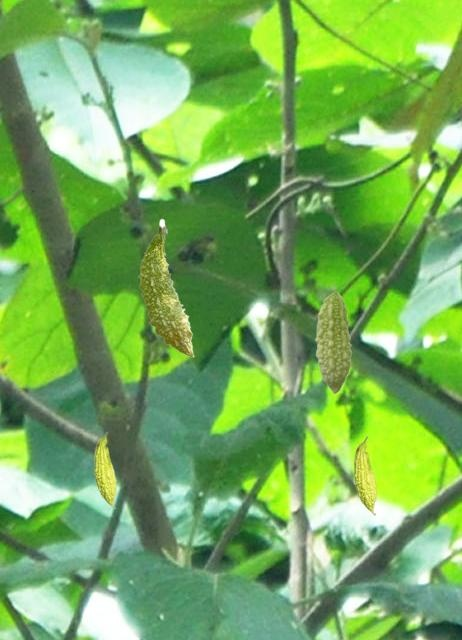ampalaya: (137, 218, 194, 357), (314, 290, 352, 394), (353, 435, 377, 516), (93, 431, 116, 509)
